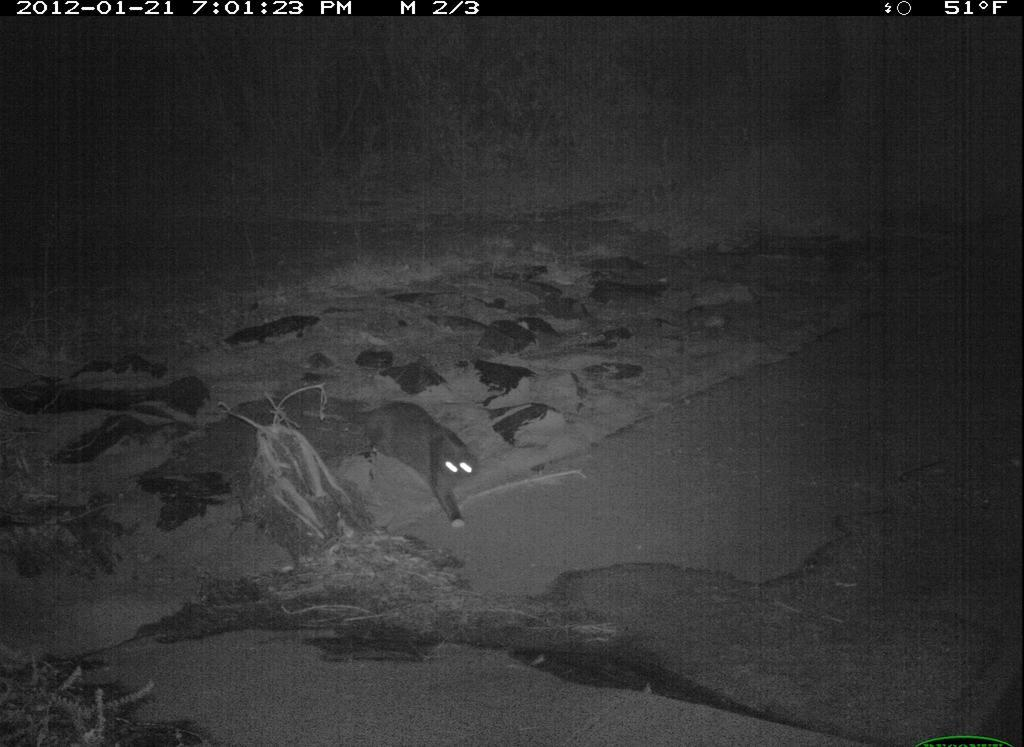cat: (329, 388, 515, 546)
